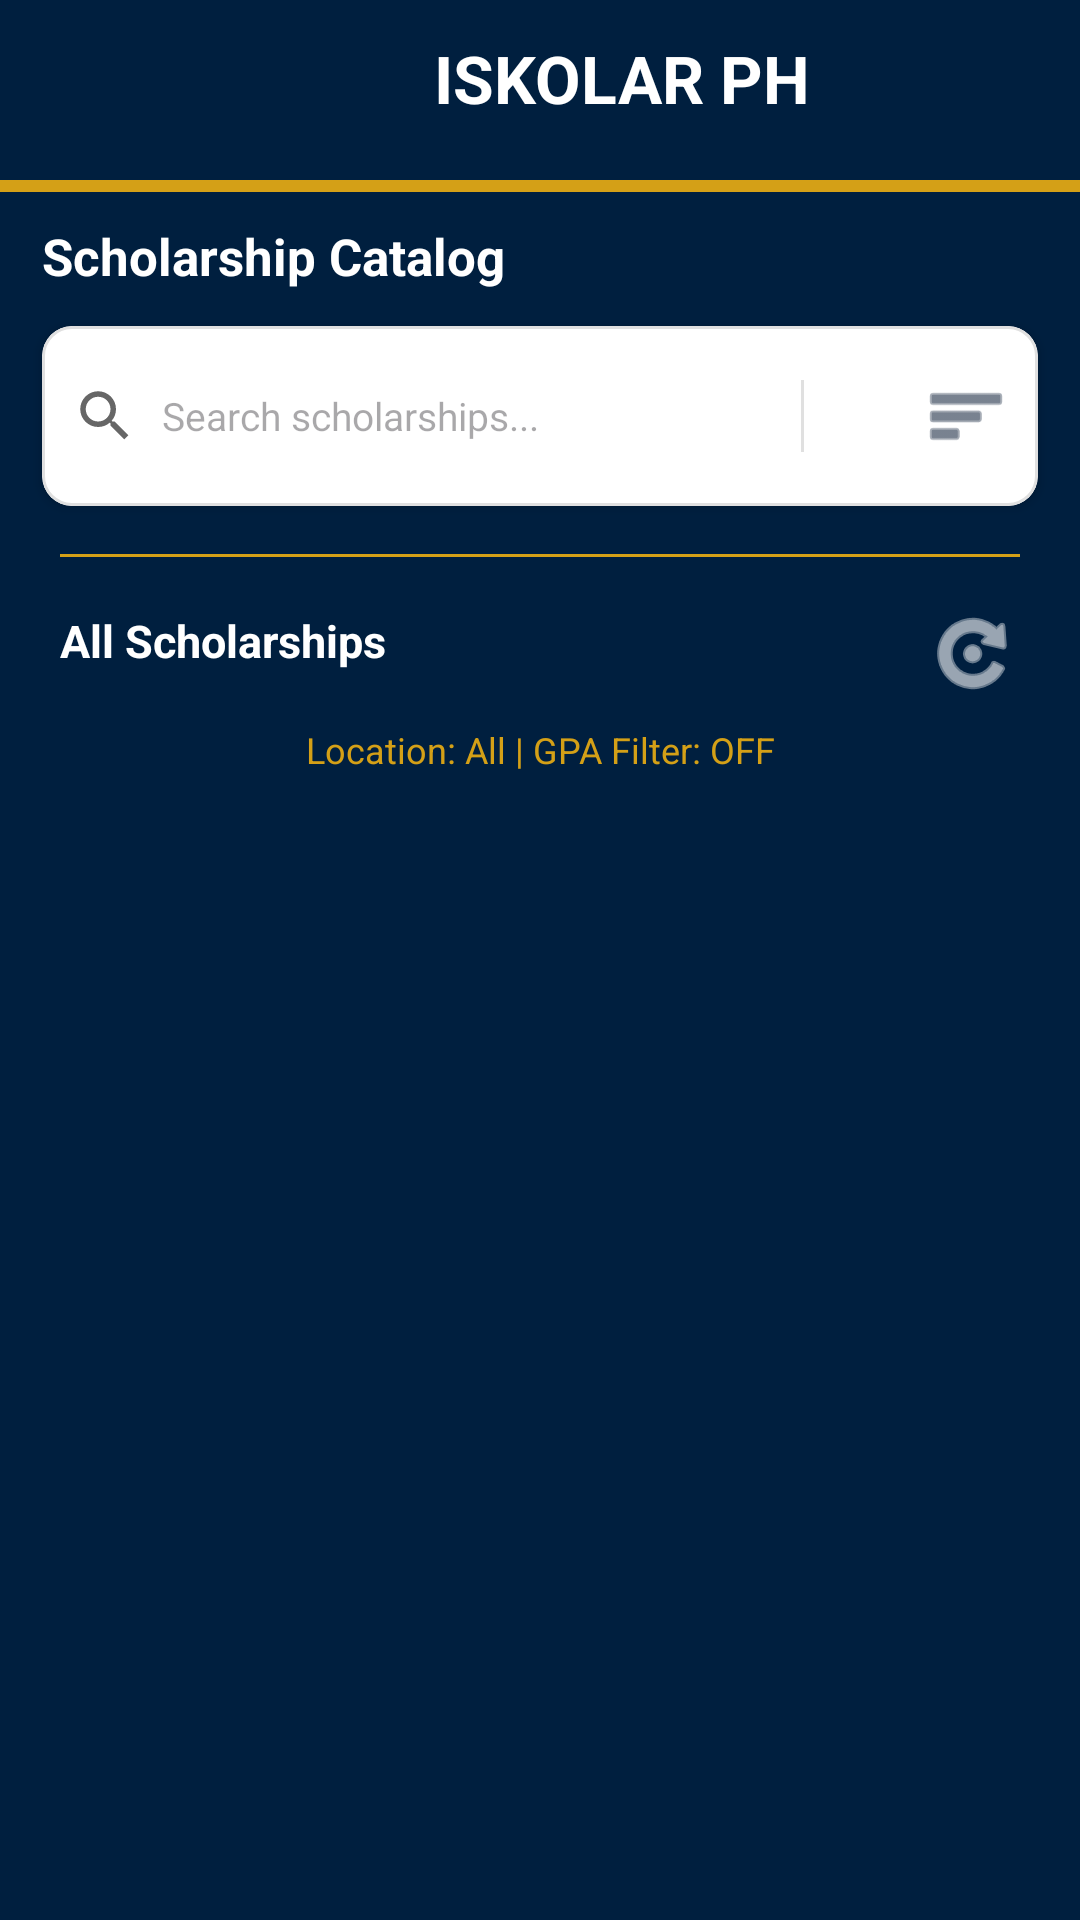

Point at icon controls on the screen. Image size 1080*1920, points as (x=x, y=y).
rotate: (x=972, y=653)
